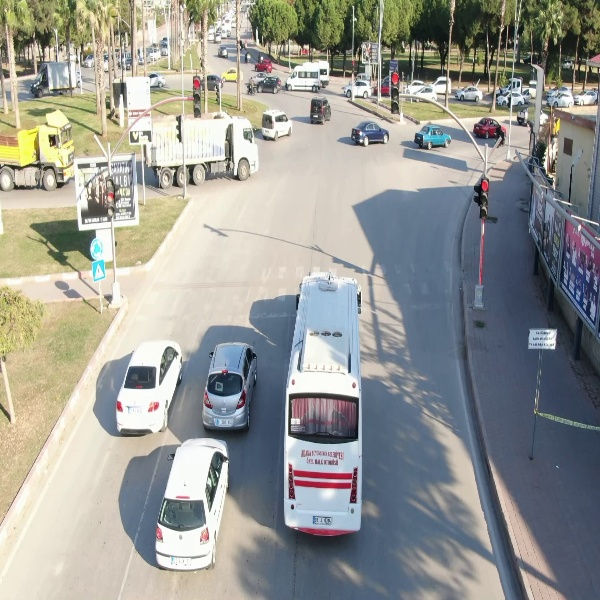car: (281, 273, 365, 542), (151, 434, 233, 570), (113, 334, 185, 439), (201, 337, 260, 434), (351, 118, 393, 150), (413, 122, 455, 154), (260, 108, 294, 141), (472, 116, 511, 138), (306, 95, 334, 125), (256, 75, 282, 97), (455, 84, 485, 103), (546, 90, 576, 108), (253, 58, 275, 73)
